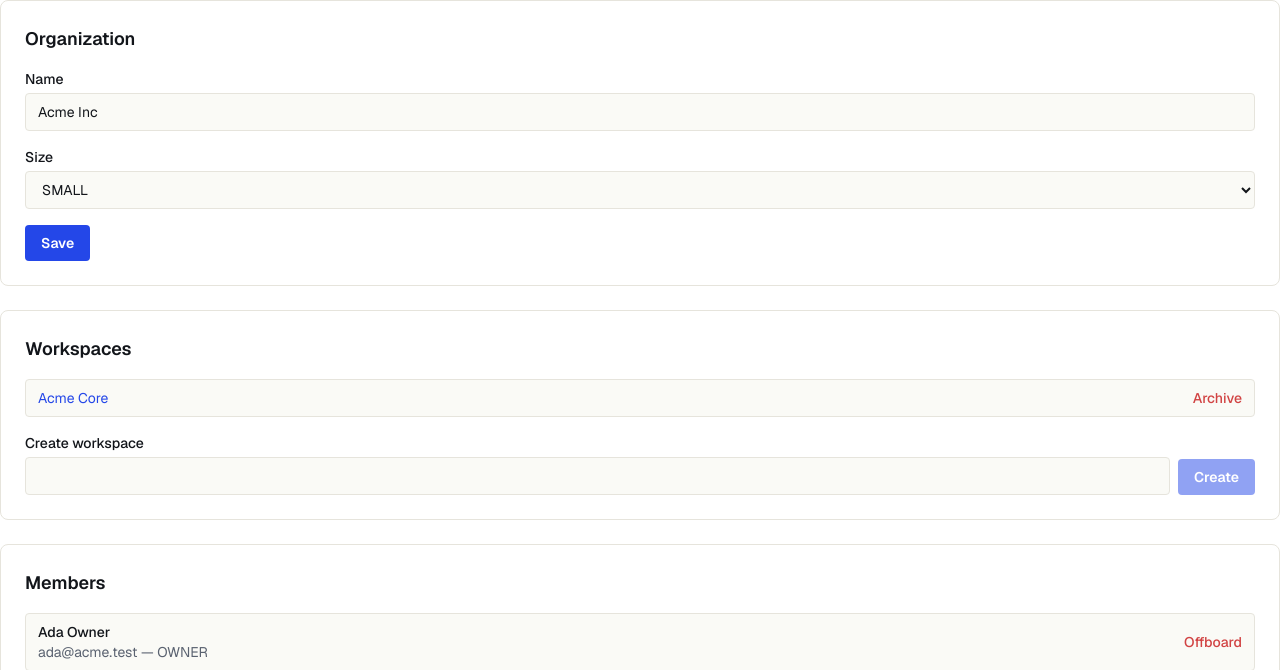
it: OrgSettings › creates a workspace and adds it to the list on success
In the field labelled "Create workspace": (598, 476) [25,457,1170,495], type "New Workspace"
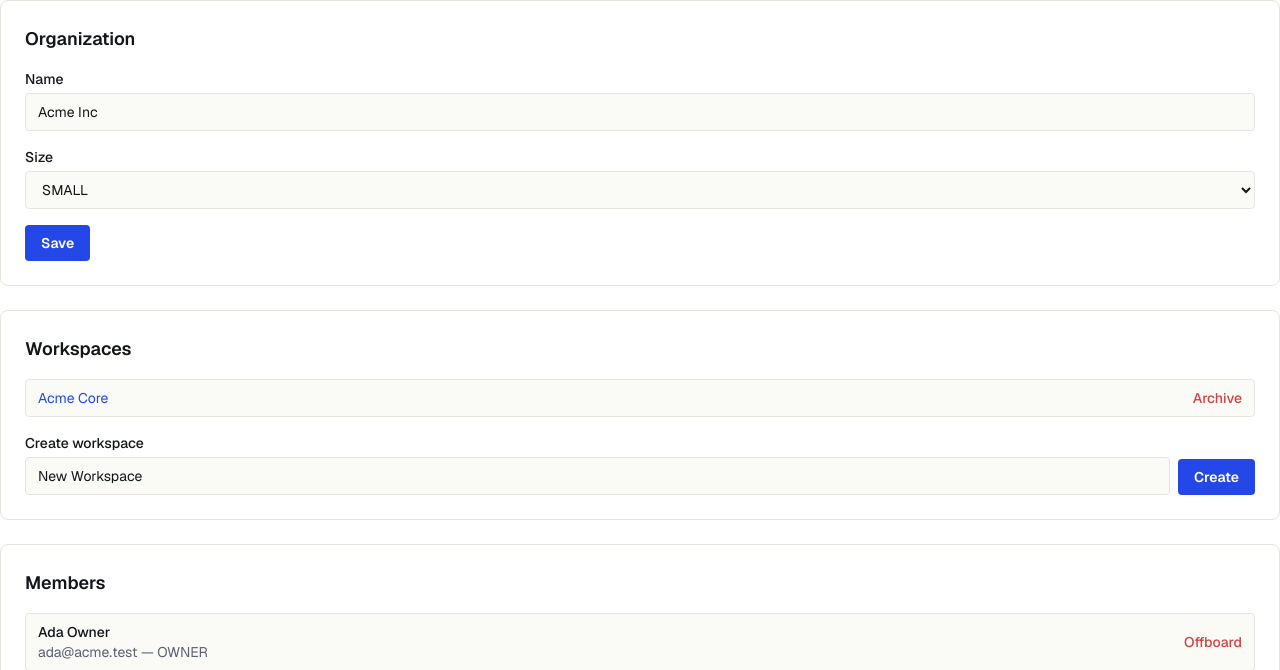
Click the button "Create": (1216, 477) [1178,459,1255,495]
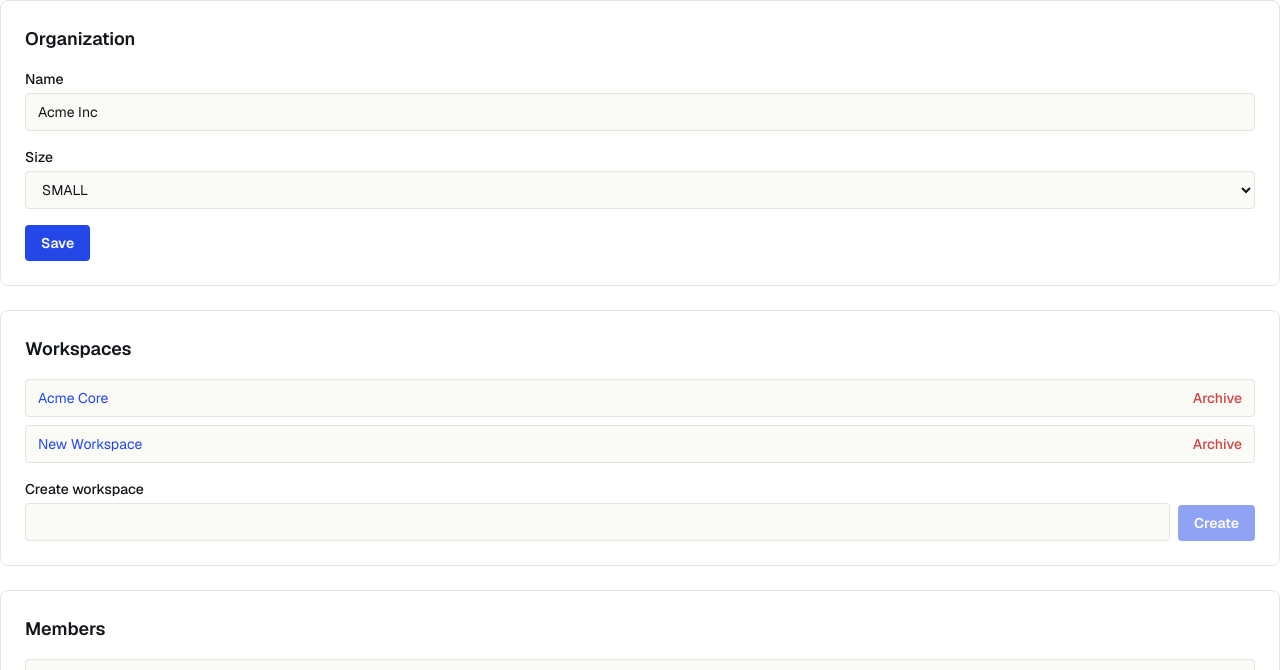
Result: the link "New Workspace" is shown at [38,434,142,454]
